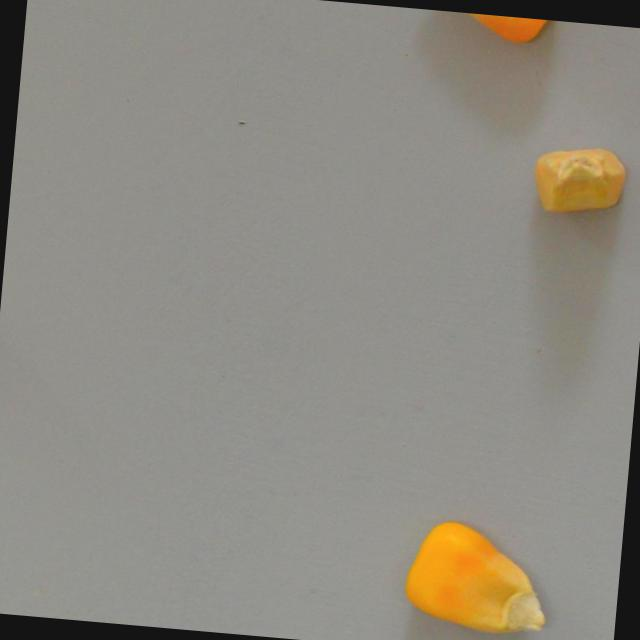entero: (398, 515, 554, 640), (526, 134, 632, 223), (412, 7, 558, 46)
